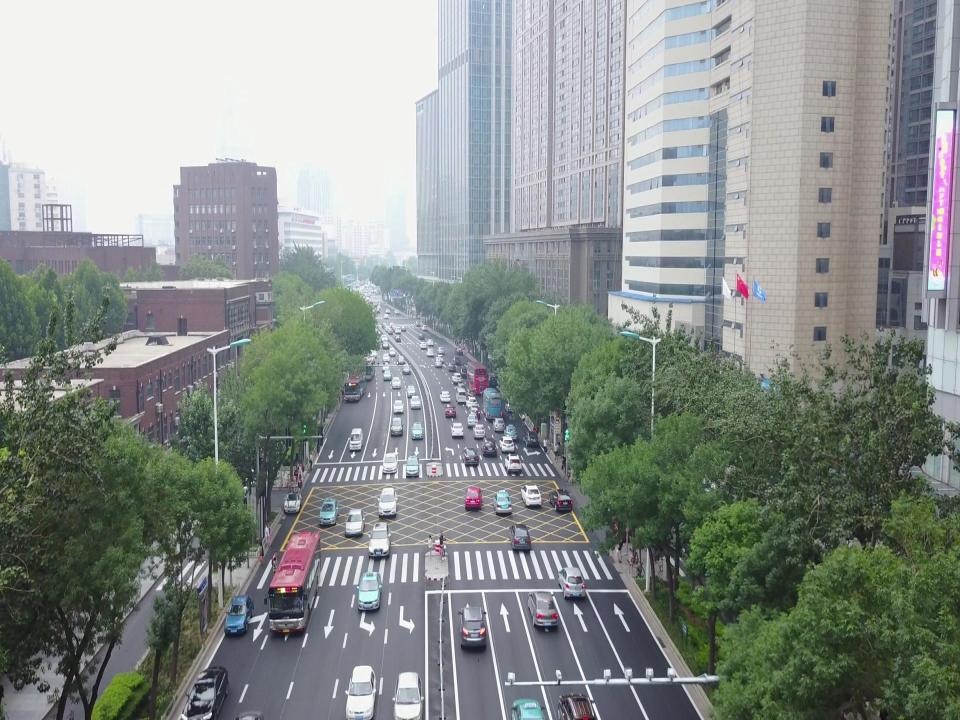bus: (264, 531, 322, 635), (343, 371, 367, 403), (466, 361, 487, 396), (357, 356, 375, 382)
car: (180, 664, 229, 720), (344, 664, 377, 720), (391, 670, 424, 720), (458, 606, 488, 650), (224, 595, 255, 636), (527, 591, 559, 627), (556, 692, 597, 720), (356, 570, 382, 610), (510, 694, 548, 720), (368, 521, 392, 560), (558, 566, 586, 599), (508, 523, 532, 552), (482, 386, 502, 420), (377, 487, 398, 519), (344, 508, 366, 537), (318, 497, 340, 526), (549, 488, 573, 512), (492, 489, 512, 516), (520, 484, 542, 507), (283, 488, 302, 514), (465, 487, 483, 510), (504, 454, 522, 474), (404, 456, 420, 478), (461, 447, 479, 466), (382, 453, 398, 474), (481, 437, 497, 456), (522, 431, 540, 447), (499, 436, 515, 454), (390, 417, 404, 436), (410, 421, 424, 440), (503, 424, 518, 441), (450, 422, 464, 439), (492, 417, 506, 433), (472, 424, 486, 439), (466, 413, 478, 429), (444, 403, 456, 419), (392, 399, 404, 414), (468, 405, 480, 420), (409, 396, 421, 410), (439, 390, 451, 403), (465, 397, 477, 410), (504, 399, 516, 412), (486, 375, 498, 387), (406, 384, 417, 397), (451, 372, 462, 385), (465, 389, 477, 400), (392, 376, 402, 388), (459, 367, 469, 379), (382, 370, 392, 381), (396, 356, 406, 366), (456, 382, 466, 392), (402, 364, 411, 375), (369, 347, 377, 359), (450, 356, 460, 365), (447, 362, 456, 372), (388, 347, 396, 357), (382, 353, 390, 363), (382, 362, 390, 372), (454, 348, 464, 356), (434, 359, 442, 368), (380, 334, 388, 342), (382, 342, 390, 350), (419, 341, 427, 349), (426, 348, 434, 356), (436, 346, 444, 354), (393, 335, 401, 342), (426, 339, 434, 346), (437, 354, 444, 362), (387, 327, 393, 334), (395, 327, 401, 334), (418, 334, 425, 340), (385, 308, 391, 314), (383, 314, 389, 320), (400, 326, 406, 332), (382, 322, 387, 329), (394, 309, 400, 314), (384, 324, 389, 330), (384, 326, 390, 331), (388, 322, 394, 327), (390, 324, 396, 329), (415, 321, 421, 326), (421, 325, 427, 330)
van: (348, 427, 364, 452), (456, 388, 466, 404)
